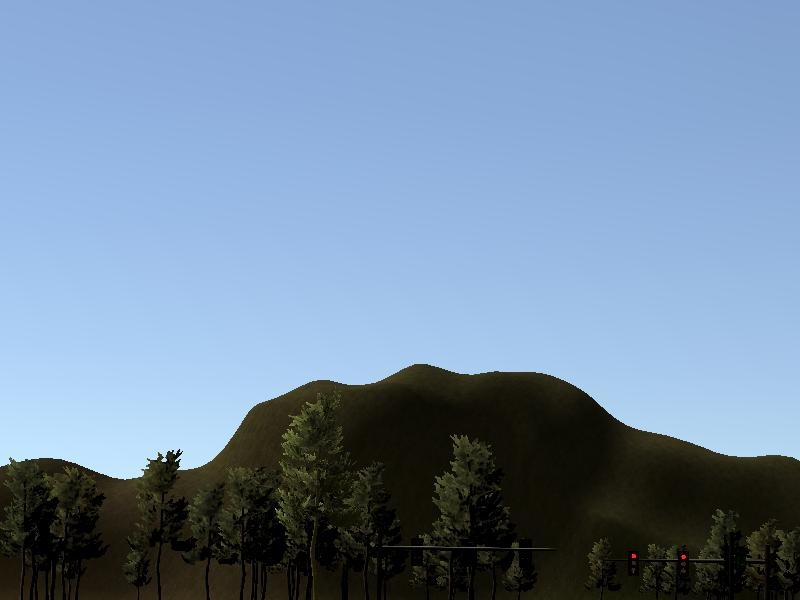RED: (672, 548, 699, 592), (622, 548, 644, 587)
